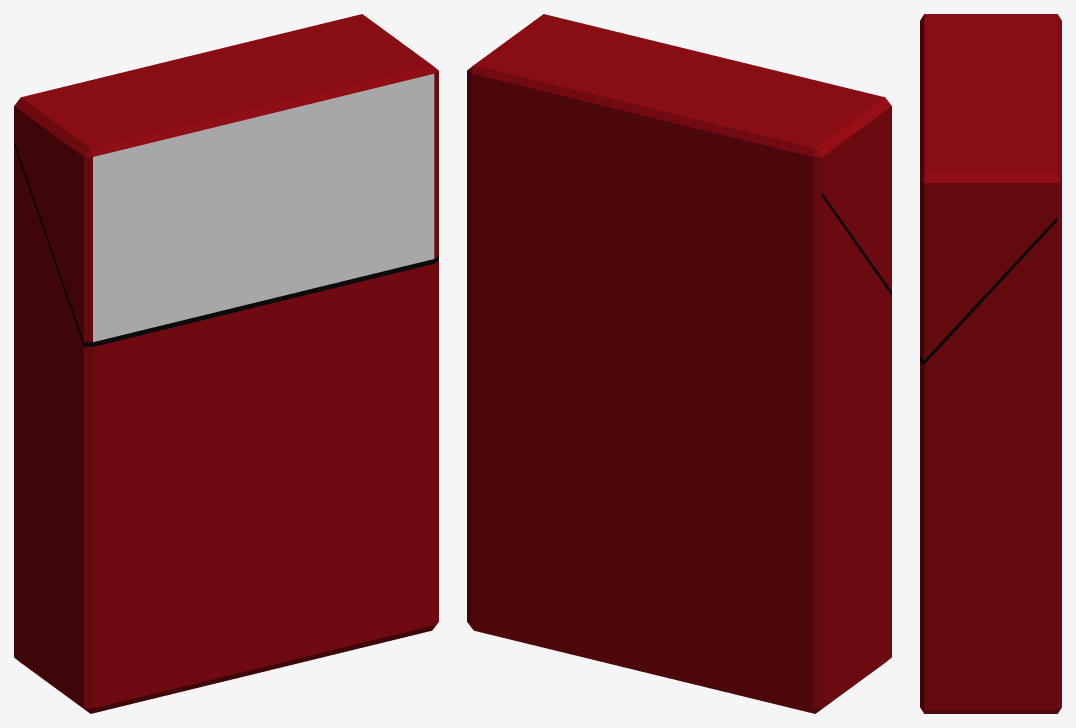
Rendered from Cigarettes.fbx.
The picture shows the model from 3 angles, left to right: view 1: azimuth 30°, elevation 25°; view 2: azimuth 150°, elevation 25°; view 3: azimuth 270°, elevation 25°; orthographic projection. The views are drawn at different scales.
Parts seen in each view (by area): view 1: Cigs; view 2: Cigs; view 3: Cigs.
Part boxes in pixels (x1=…): Cigs: x1=14, y1=14, x2=438, y2=713; Cigs: x1=467, y1=14, x2=891, y2=713; Cigs: x1=920, y1=14, x2=1061, y2=713.
Bounding box in the file's own units: 200 × 305 × 72.44.
